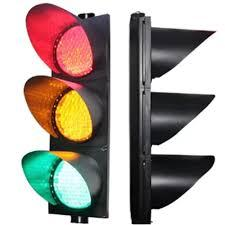Lamp: (10, 0, 118, 225), (125, 8, 217, 225)
